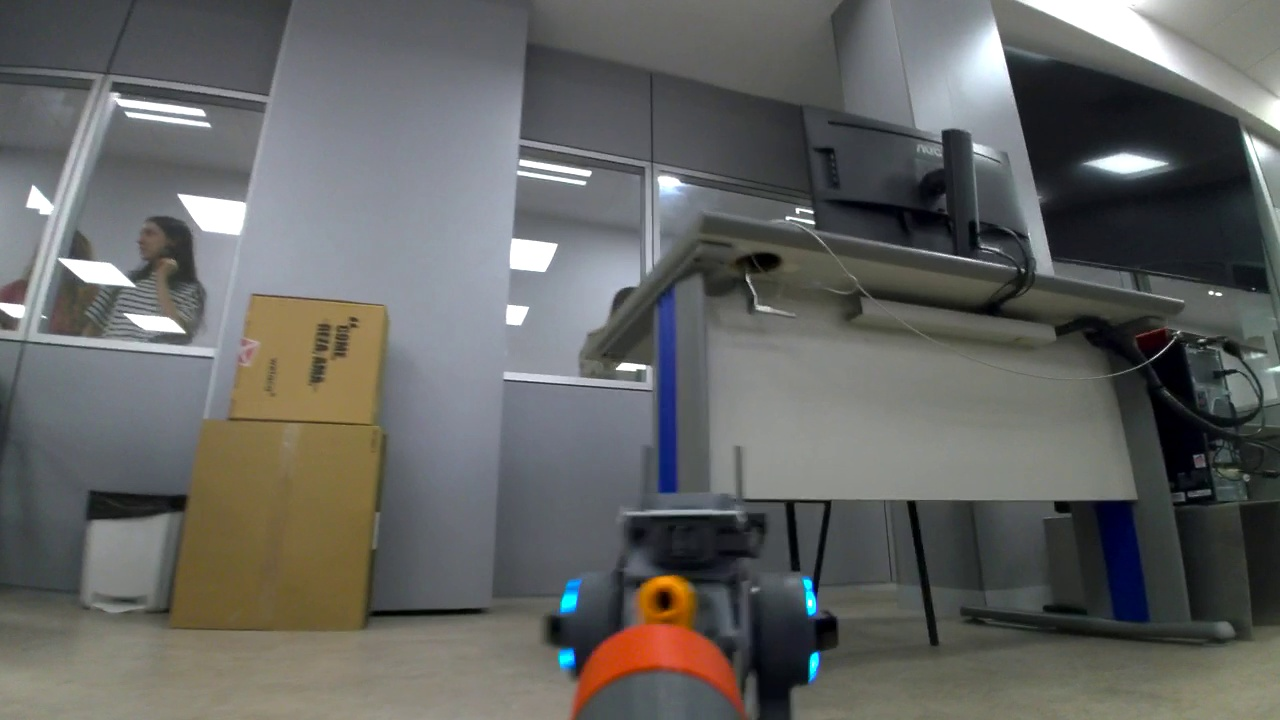robot: (544, 483, 842, 715)
